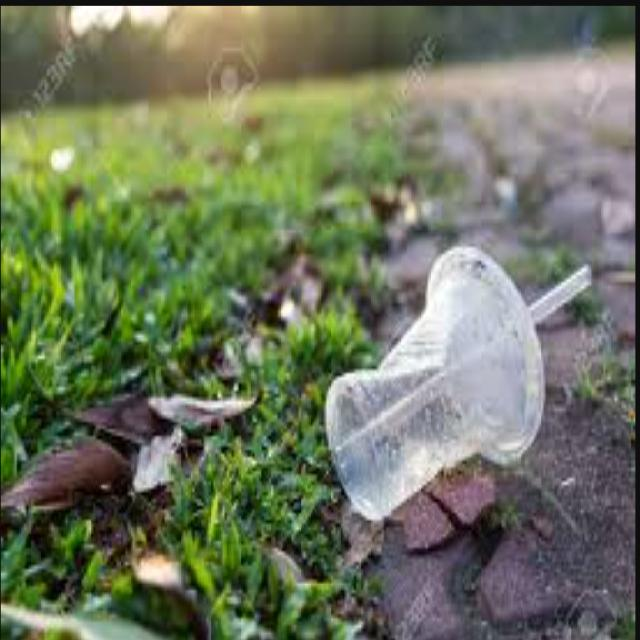GelasPlastik: (323, 242, 592, 522)
